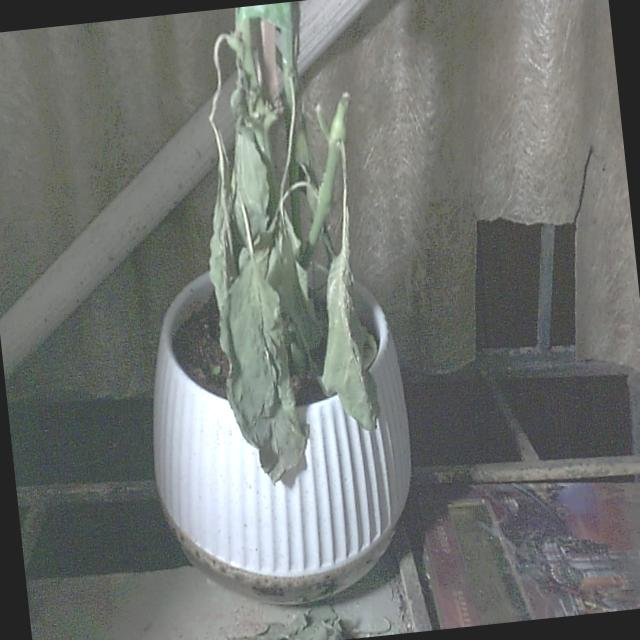Leaf: (213, 257, 313, 487), (308, 247, 383, 436)
